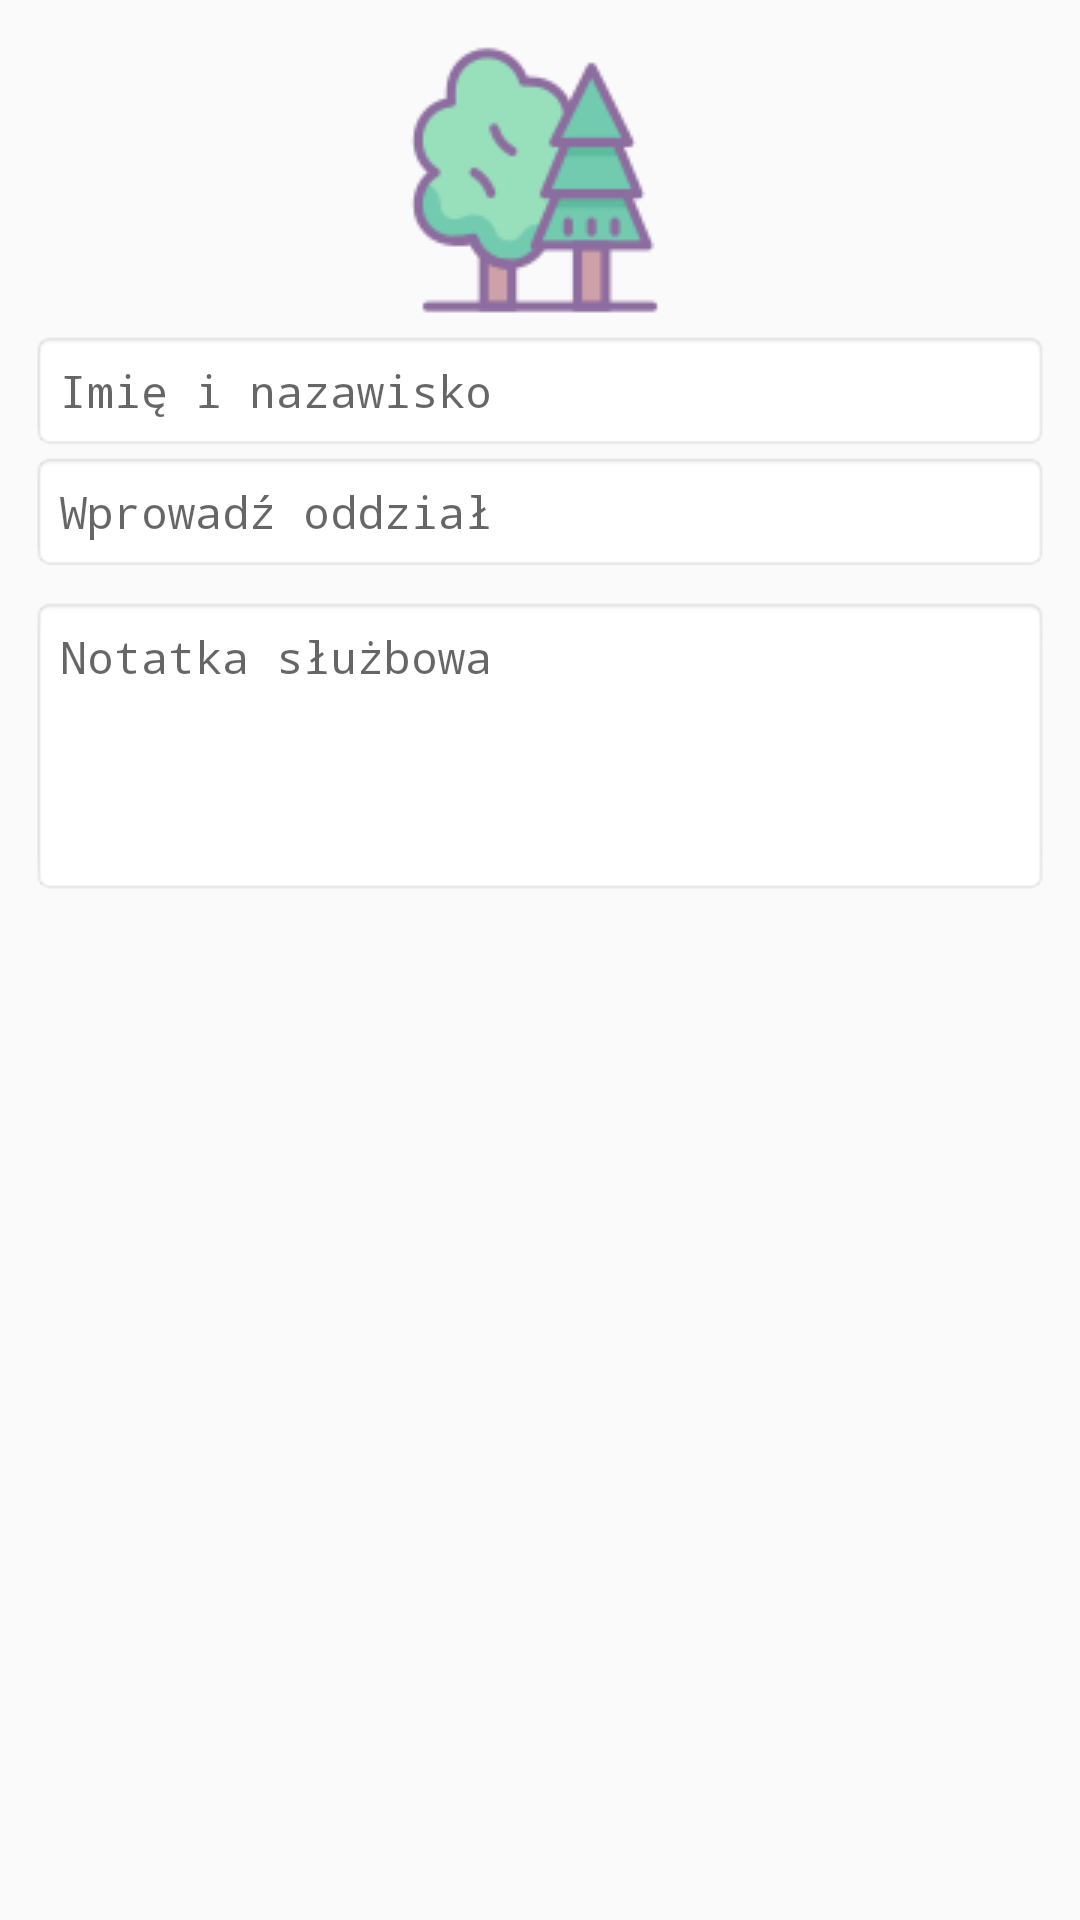

Locate icon controls on the screen. Image size 1080w x 1920h, boxes as (x1, y1, x2, y2).
forest: (413, 47, 658, 313)
